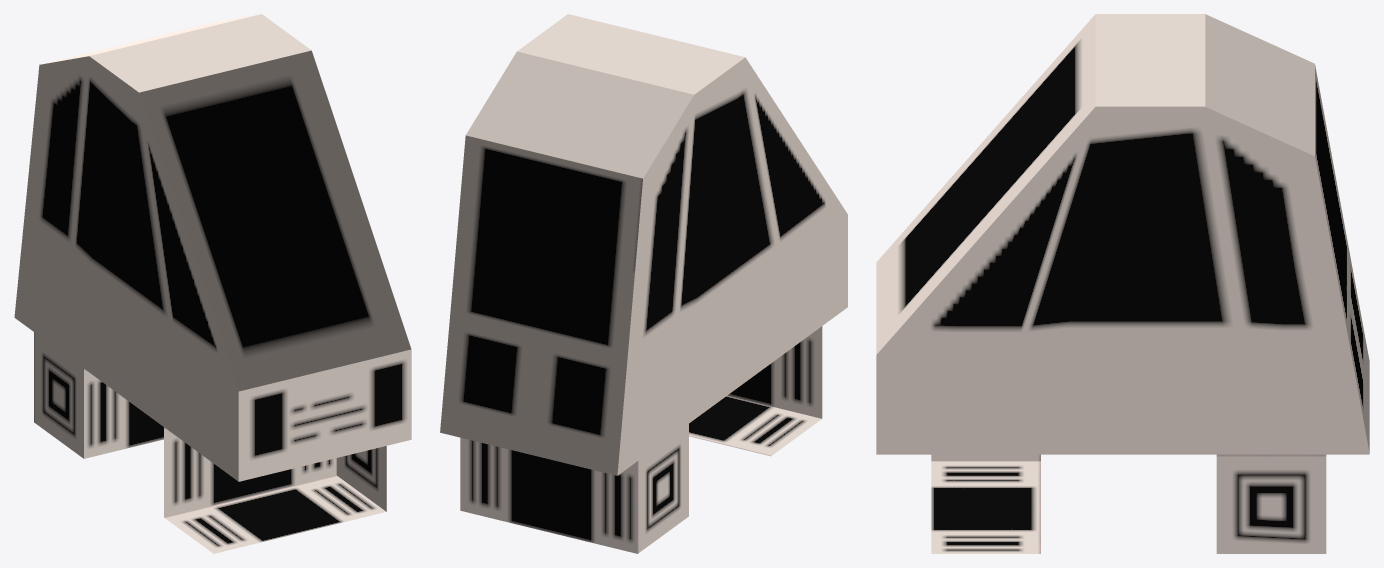
The model's file is car.fbx.
The picture shows the model from 3 angles, left to right: view 1: azimuth 30°, elevation 25°; view 2: azimuth 150°, elevation 25°; view 3: azimuth 270°, elevation 25°; orthographic projection. The views are drawn at different scales.
Parts seen in each view (by area): view 1: unnamed_3.001, unnamed_3.002, unnamed_3.003; view 2: unnamed_3.001, unnamed_3.003, unnamed_3.002; view 3: unnamed_3.001, unnamed_3.003, unnamed_3.002.
Part boxes in pixels (<box>): unnamed_3.001: <box>14,14,411,481</box>; unnamed_3.002: <box>164,427,386,553</box>; unnamed_3.003: <box>34,332,163,458</box>; unnamed_3.001: <box>440,14,847,475</box>; unnamed_3.003: <box>460,424,688,553</box>; unnamed_3.002: <box>689,326,822,456</box>; unnamed_3.001: <box>876,14,1369,454</box>; unnamed_3.003: <box>1216,454,1326,553</box>; unnamed_3.002: <box>931,454,1040,553</box>.
Bounding box in the file's own units: 100 × 225 × 225.
1 material, 1 textured.
